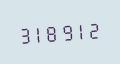eight: (46, 21, 59, 44)
nine: (60, 20, 73, 43)
one: (31, 21, 44, 45), (74, 19, 87, 42)
three: (17, 22, 30, 46)
two: (88, 18, 101, 41)
